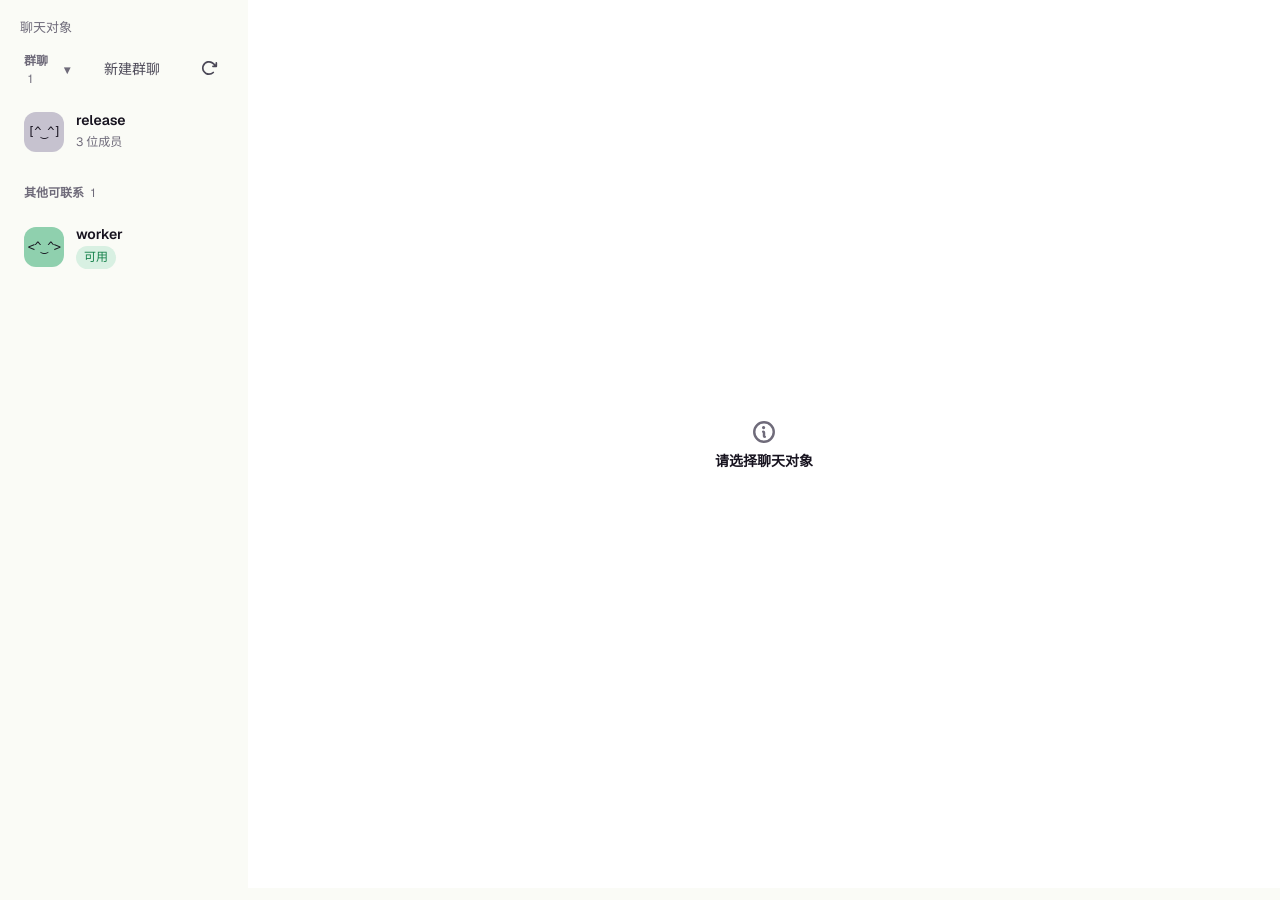
Test: the preview shows the worker conversation from conversations.history and switches documents
Click the button "<^‿^> worker 可用": (124, 247) [12,214,236,281]
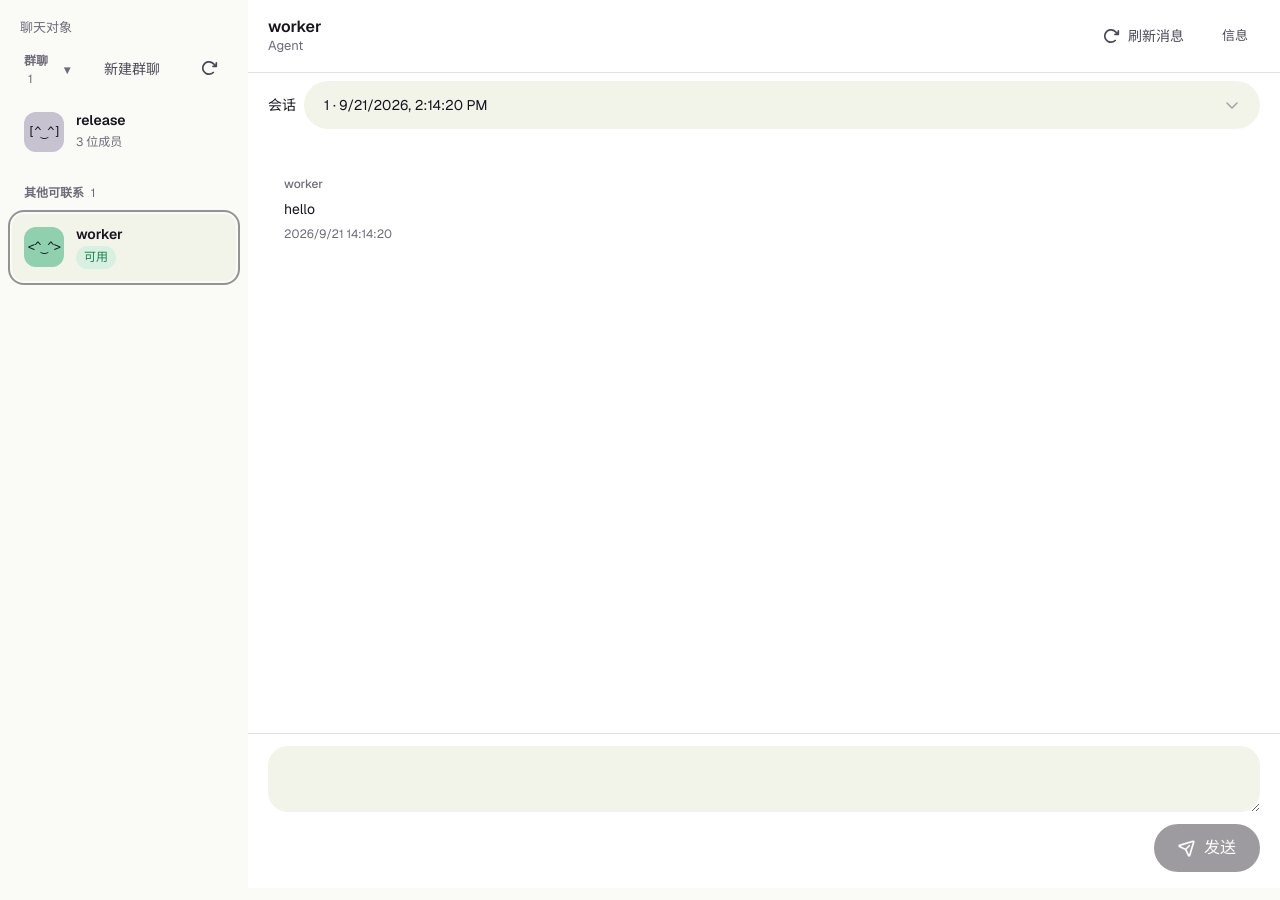
Expected: the text "hello" is shown, [284,200,315,218]
Click the dropdown named "会话": (406, 105) [304,81,1260,129]
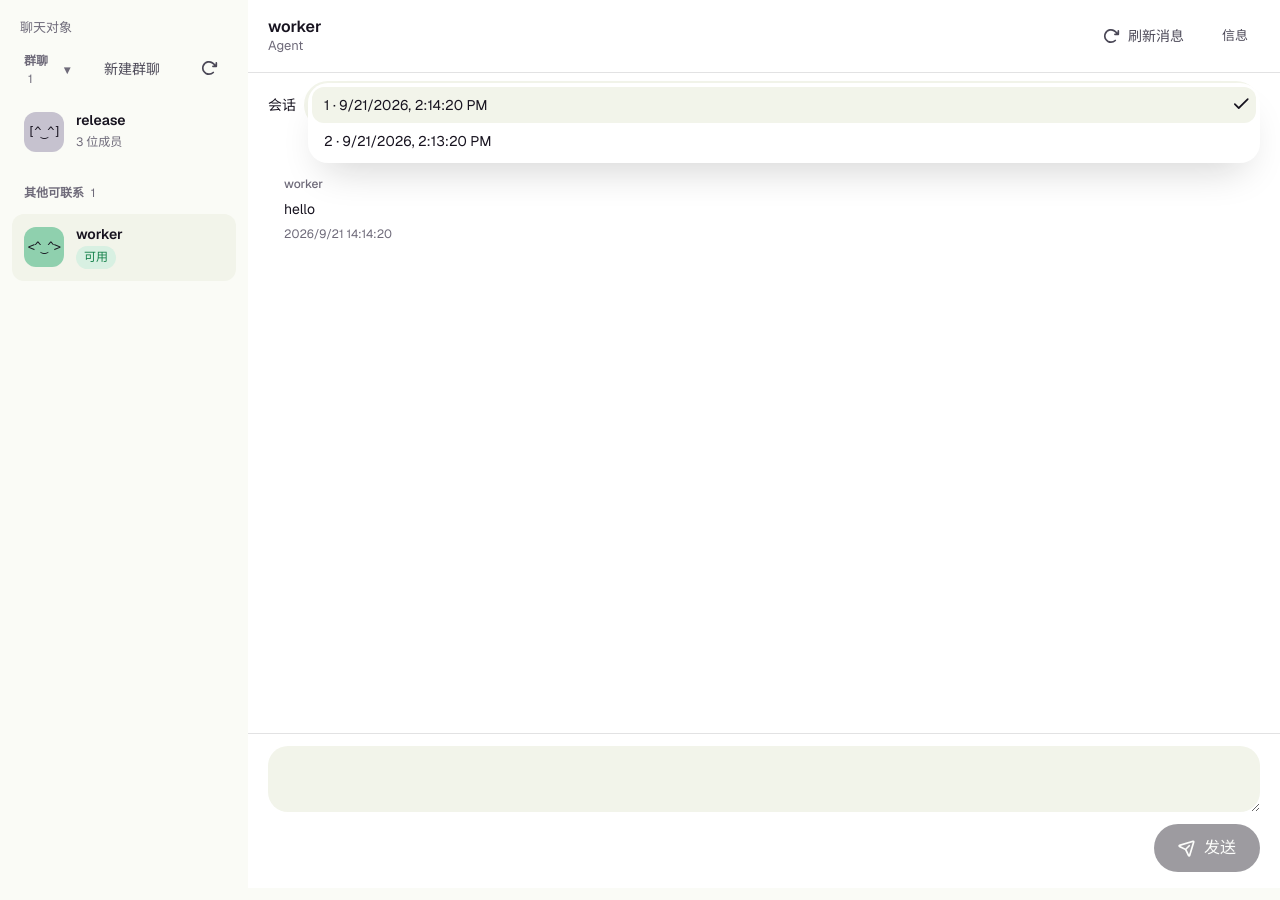
Click the option "2 · 9/21/2026, 2:13:20 PM": (408, 141) [324,132,492,150]
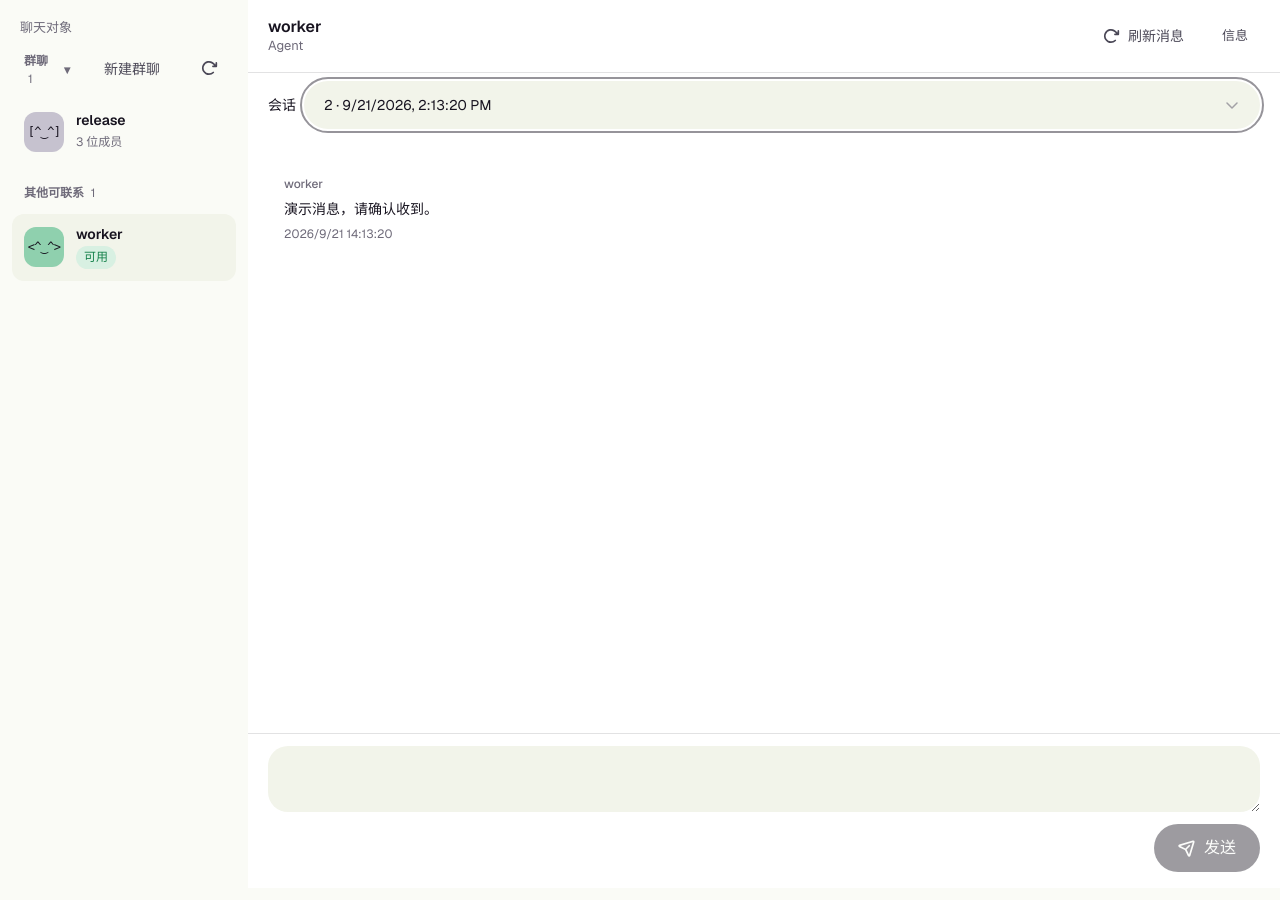
Expected: the text "演示消息，请确认收到。" is shown, [284,200,438,218]
Expected: the text "hello" is gone
In the text box named "给 worker 的消息": (764, 779) [268,746,1260,812], type "browser hello"
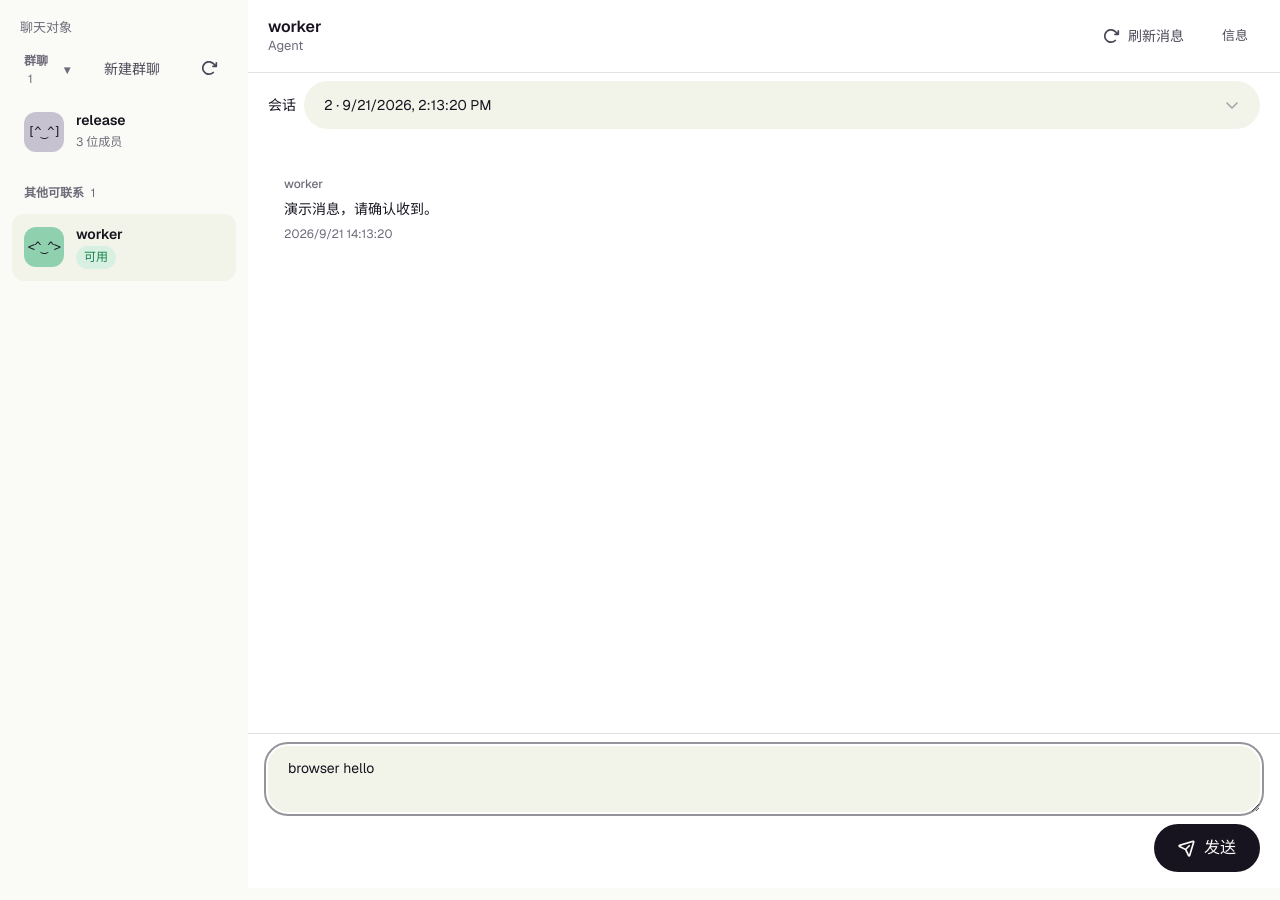
Click the button "发送": (1207, 848) [1154,824,1260,872]
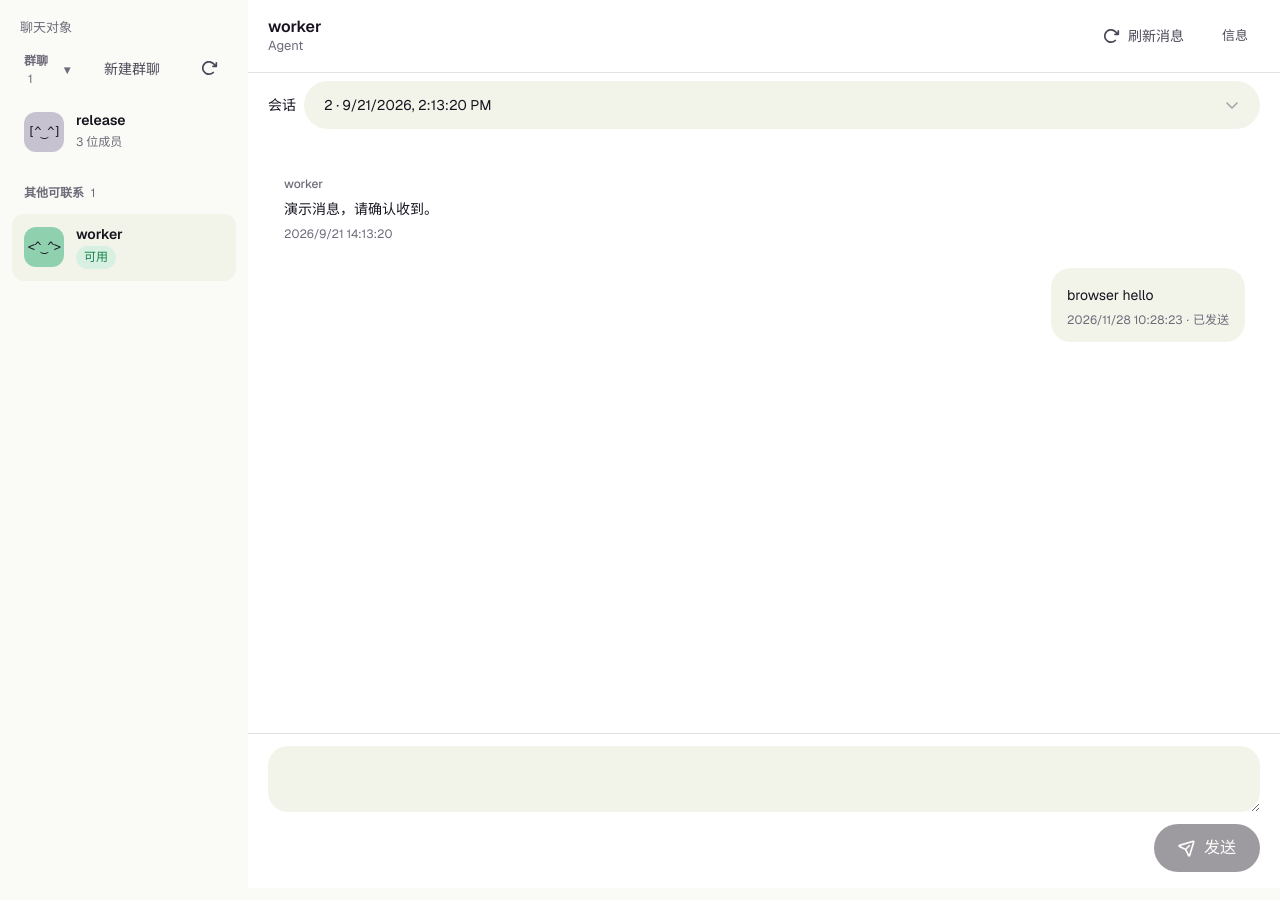
Expected: the text "browser hello" is shown, [1067,286,1154,304]
Expected: the text box named "给 worker 的消息" is empty, [268,746,1260,812]
